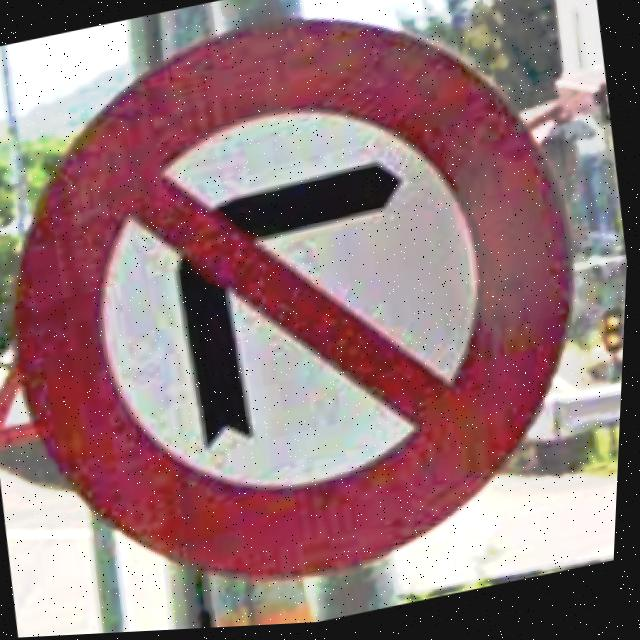noturnright: (17, 21, 577, 587)
